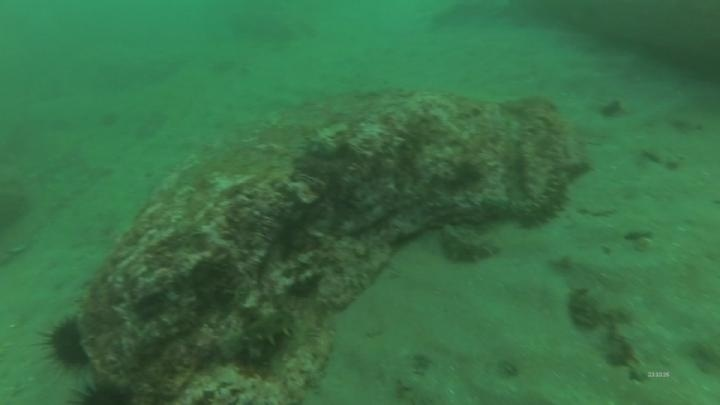echinus: (38, 312, 92, 373), (65, 371, 141, 405)
holothurian: (227, 304, 299, 366), (518, 167, 572, 231), (435, 222, 505, 267)
